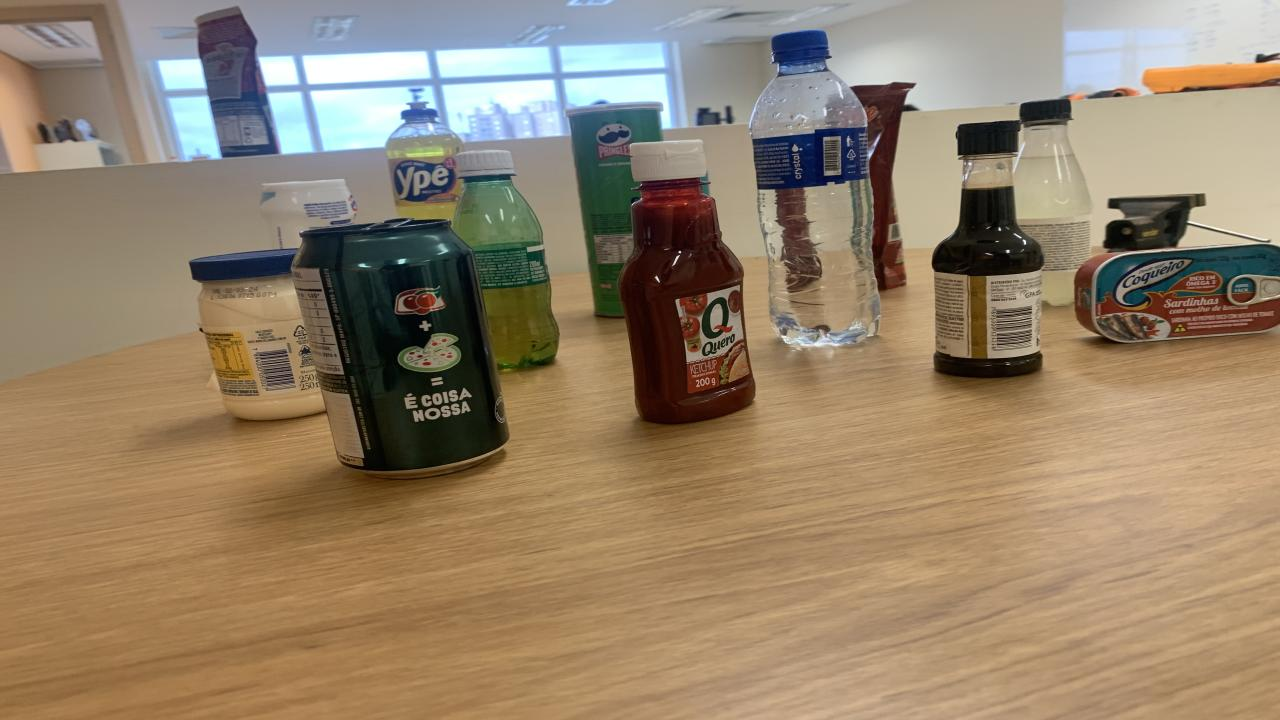Cleaner-Cleanup_Items: (260, 178, 358, 248)
Detergent-Cleanup_Items: (385, 88, 462, 219)
English_Sauce-Pantry_Items: (932, 122, 1042, 377)
Guarana-Drinks: (452, 150, 558, 369)
Guarana_Can-Drinks: (292, 218, 510, 478)
Ketchup-Pantry_Items: (620, 141, 755, 424)
Mayonnaise-Pantry_Items: (190, 249, 325, 420)
Pringles-Snacks: (568, 103, 662, 317)
Soda-Drinks: (1012, 99, 1092, 306)
Tomato_Sauce-Pantry_Items: (852, 82, 915, 289), (195, 8, 280, 158)
Tuna_Can-Pantry_Items: (1075, 242, 1280, 343)
Water_Bottle-Drinks: (750, 32, 880, 347)
